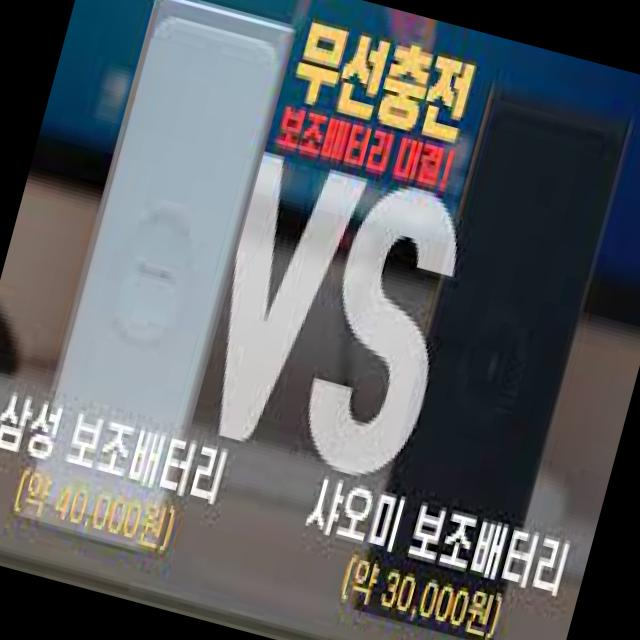portable-charger: (349, 74, 639, 640), (10, 0, 300, 561)
